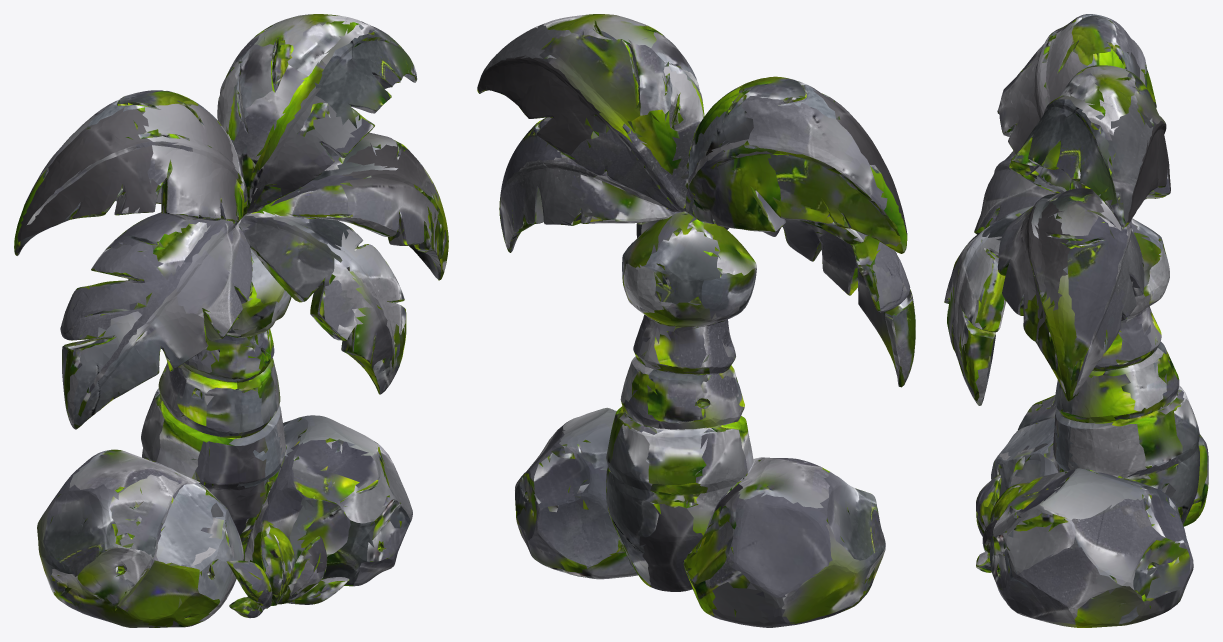
Rendered from palm_tree.fbx.
The picture shows the model from 3 angles, left to right: view 1: azimuth 30°, elevation 25°; view 2: azimuth 150°, elevation 25°; view 3: azimuth 270°, elevation 25°; orthographic projection. The views are drawn at different scales.
Visible parts, largest first — view 1: world; view 2: world; view 3: world.
Part boxes in pixels (x1=…): world: x1=14, y1=14, x2=448, y2=627; world: x1=477, y1=14, x2=915, y2=627; world: x1=944, y1=14, x2=1208, y2=627.
Size of the model in its own units: 164 by 199 by 91.37.
